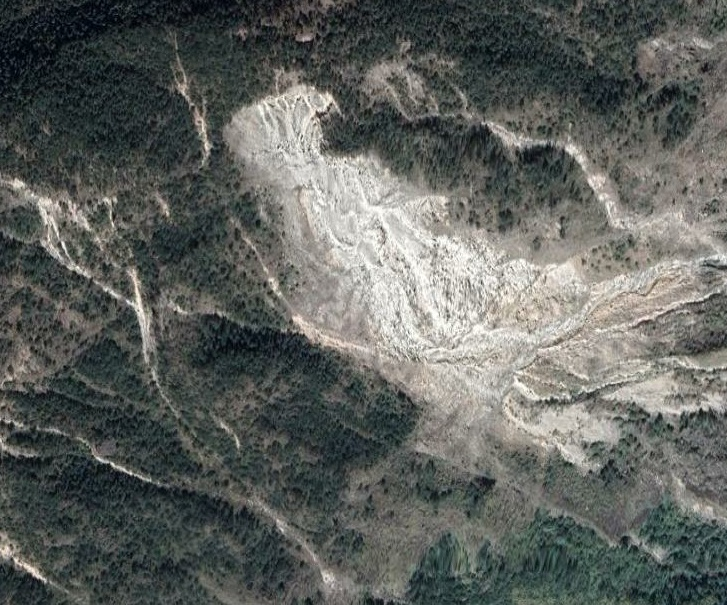slope: (218, 81, 726, 486), (633, 23, 726, 98)
